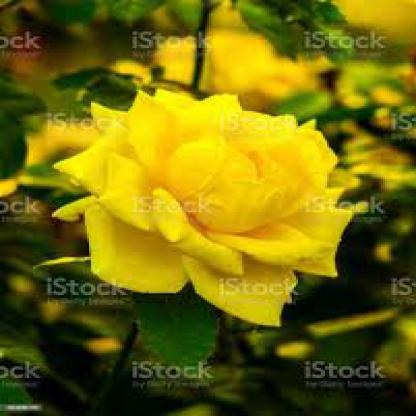Rose-Mawar: (55, 84, 351, 327)
